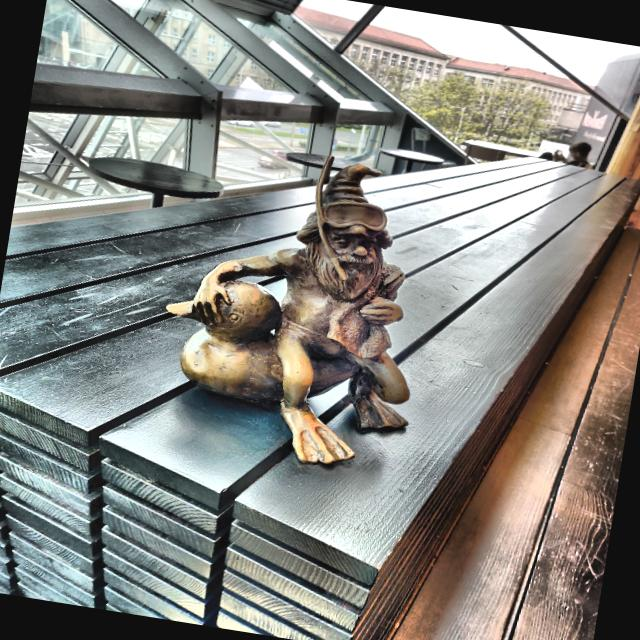Babelek_Chlaptus: (167, 157, 410, 464)
